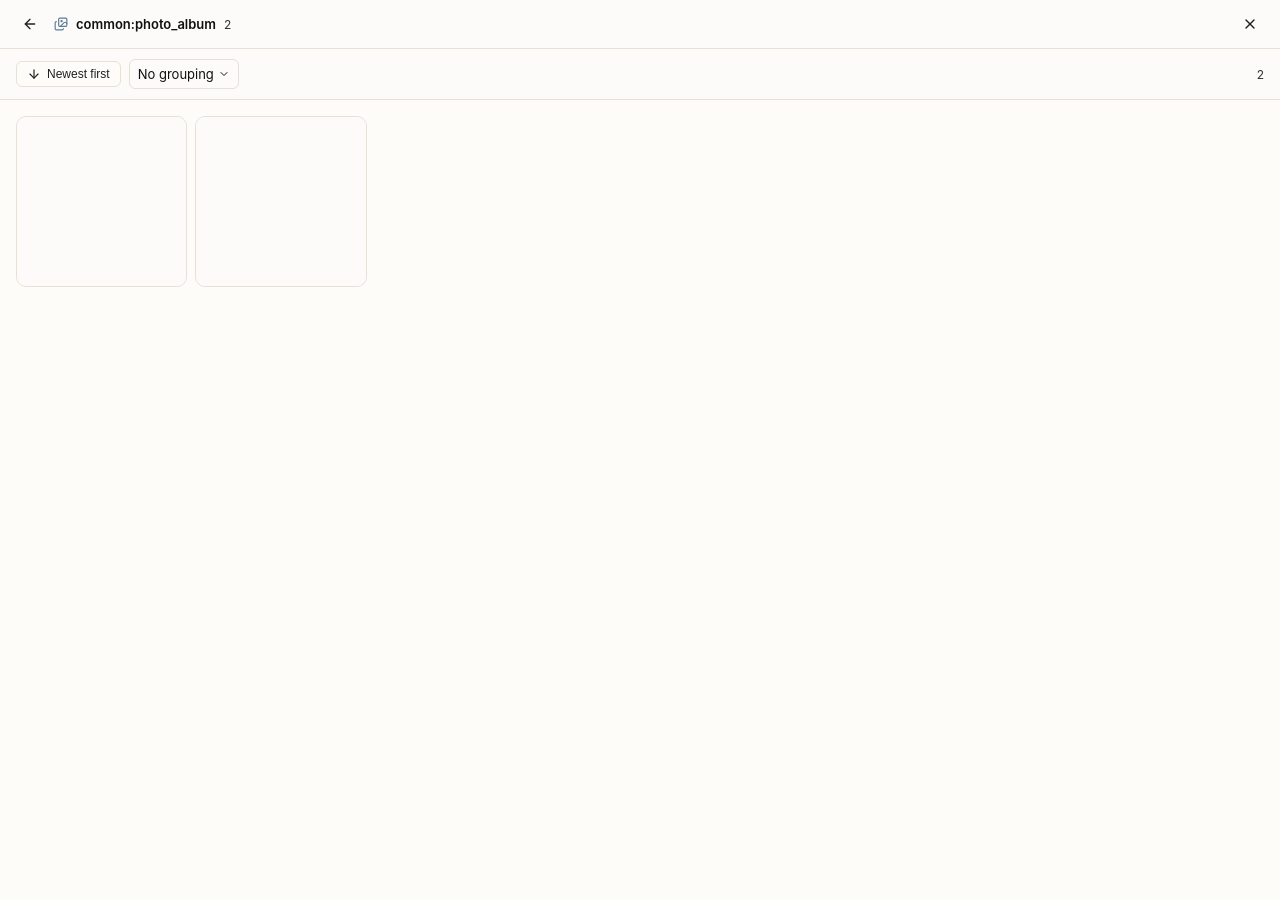
Scenario: PhotoAlbumOverlay › opens the viewer on cell click and returns to grid on back
What coordinates should you click on to do the following:
click the button named "a.png"
I would click on:
 (102, 202)
Its box is [16,116,187,287].
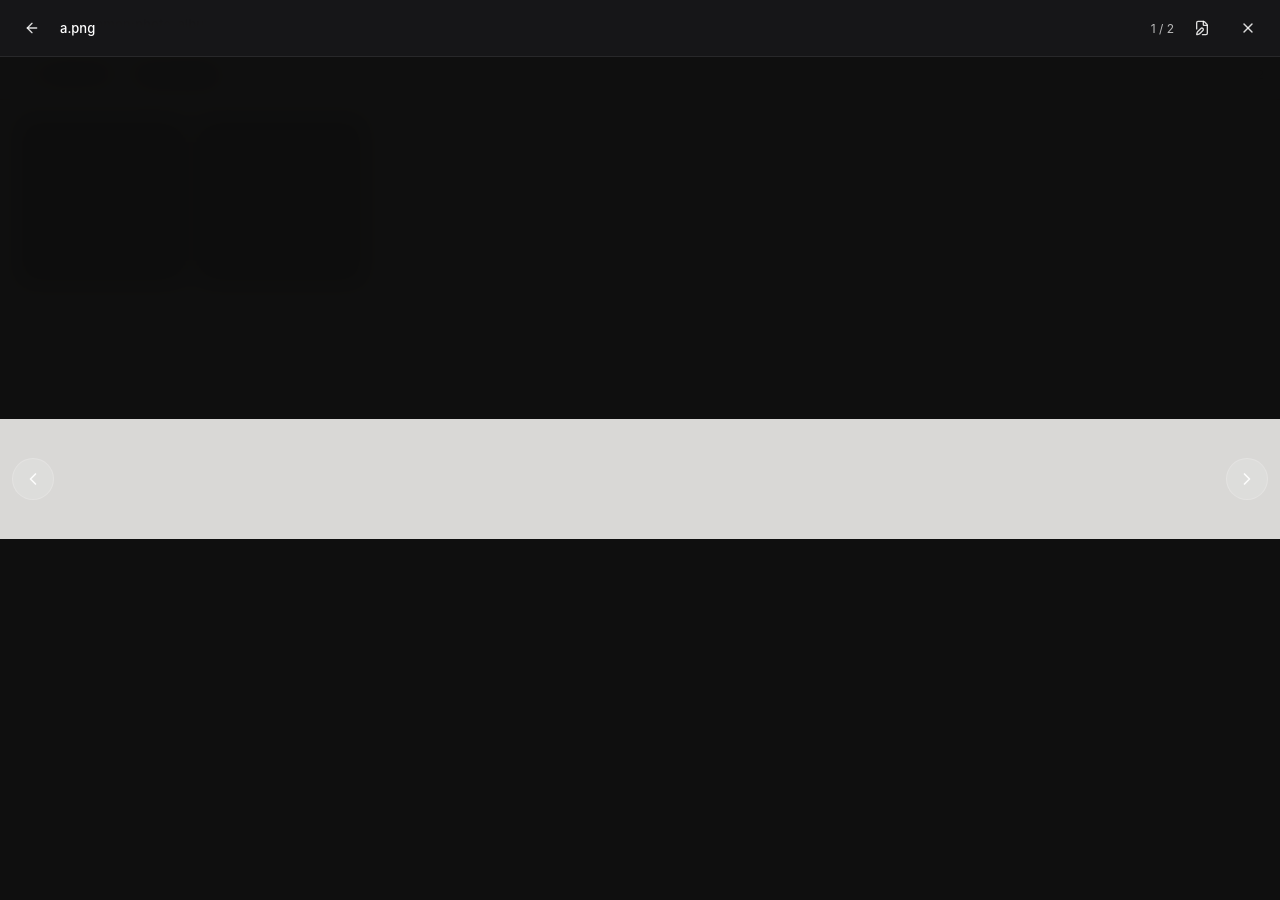
Expected: the text with test id "photo-viewer-counter" reads "1 / 2", [1151,20,1174,36]
What coordinates should you click on to do the following:
click the button named "common:back_to_album"
I would click on:
 (32, 28)
Its box is [14,10,50,46].
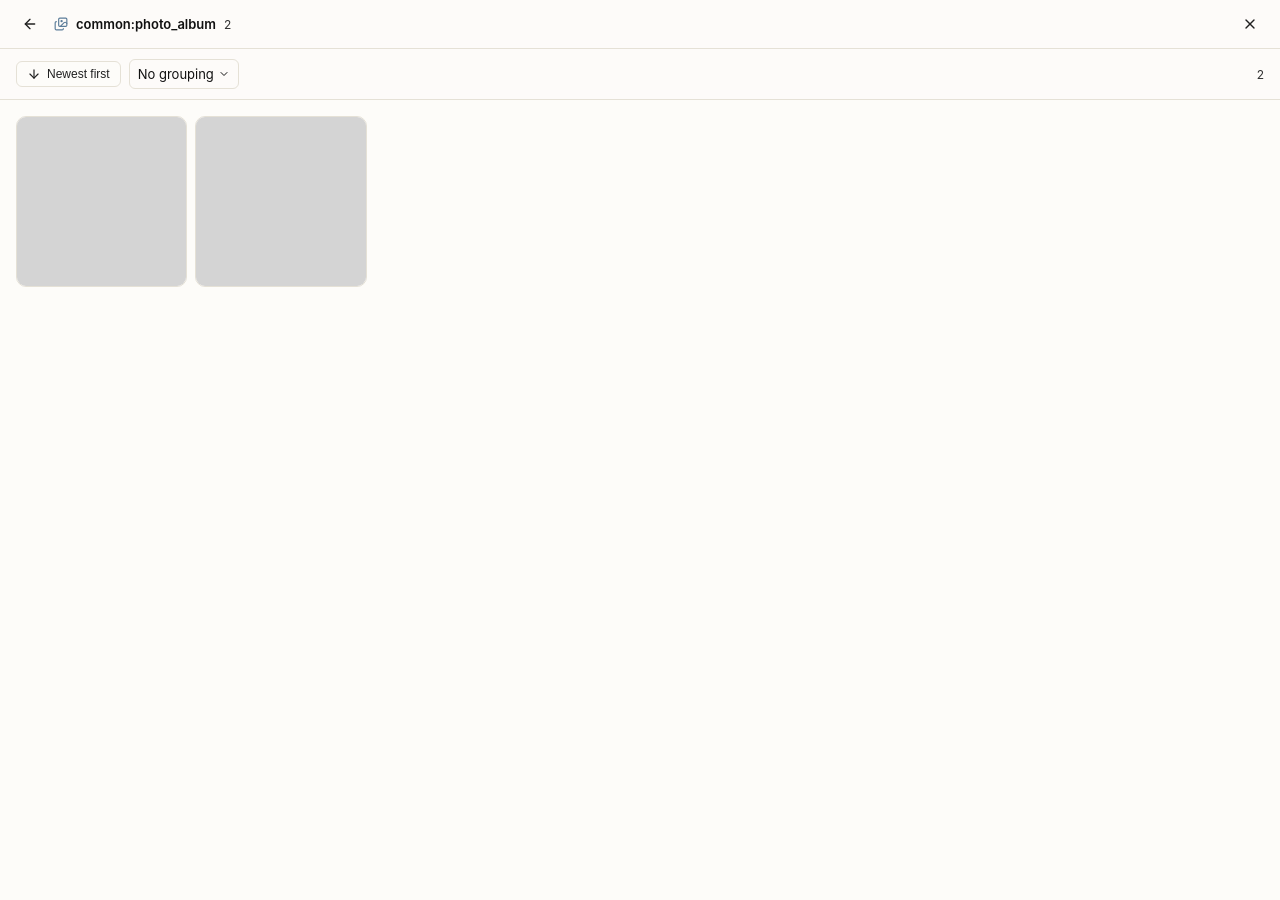
Expected: the text with test id "photo-viewer-counter" is gone
